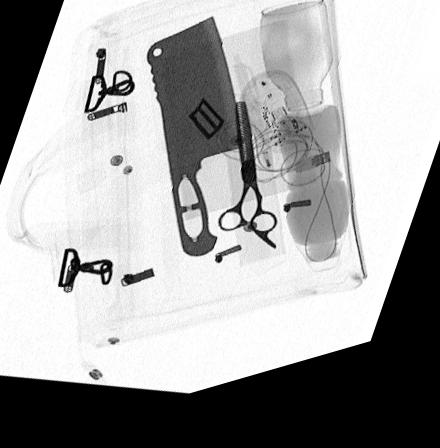Knife: (145, 29, 244, 269)
Scissors: (216, 114, 277, 266)
